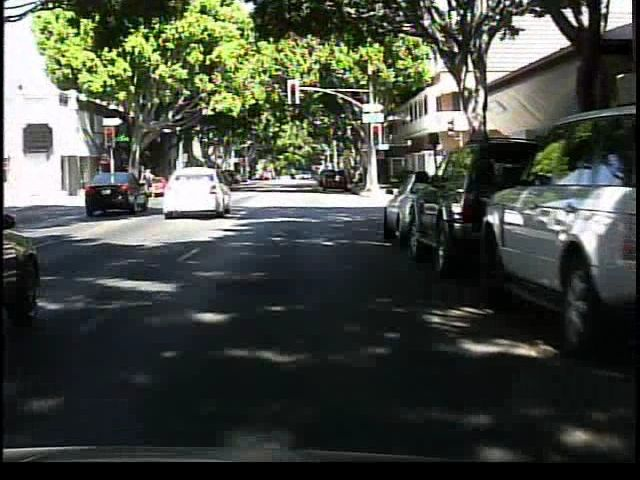person: (140, 164, 159, 194)
